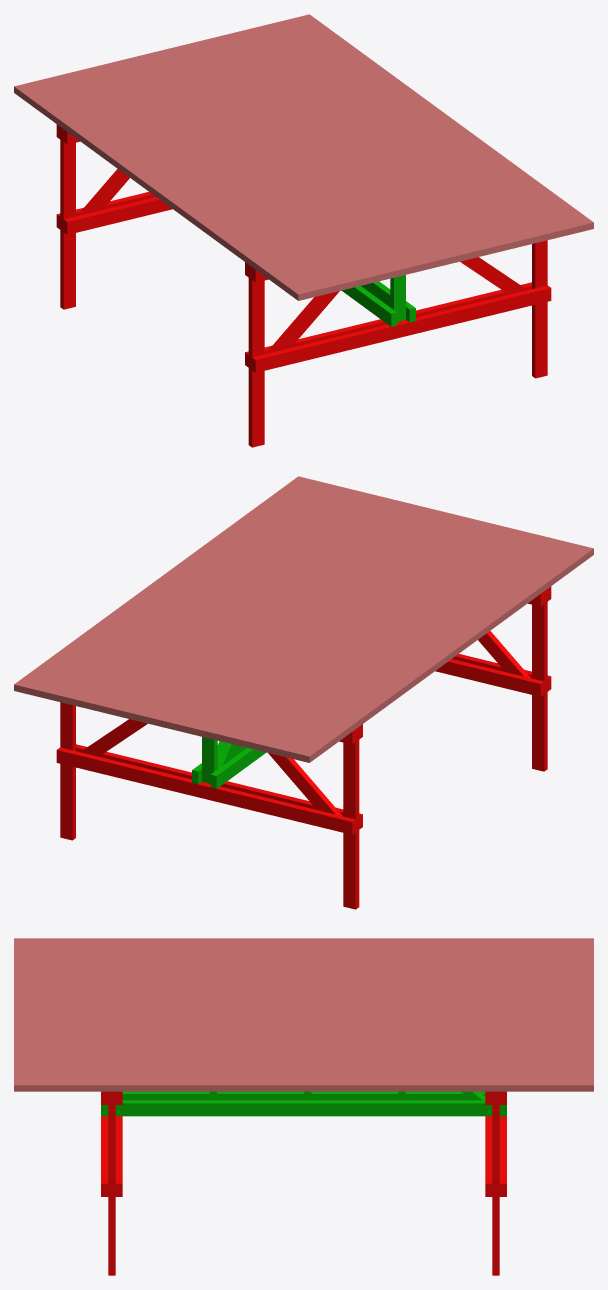
Rendered from result.glb.
3 views of the same model, one above another, from view 1: azimuth 30°, elevation 25°; view 2: azimuth 150°, elevation 25°; view 3: azimuth 270°, elevation 25° (orthographic).
Visible parts, largest first — view 1: 05e43cef-ac9a-41a2-92b4-1fbf3ca5b198__Box, ca280ebe-6c66-4aec-b6aa-8b83cfbf7fe5__sideH, 828b57bb-94ff-42ec-9105-54b1337d2b9c__undefined, 6e89d0aa-f65a-4cd3-8c40-7472725e1917__undefined, d6015b2d-edc9-4d0e-987c-619b59f8aab8__undefined, 24bbf45b-6f49-4ac0-9adb-29d26f2c249d__undefined, a09bfc43-d145-492b-bc83-09685d4b92c4__undefined, 43c83951-58d4-472d-ba59-04b926bcbe2e__undefined, 8a8197ad-1edd-4720-8c28-8827e1ee1bb5__undefined, 976a7002-705a-4f2a-a6a1-f81d435f2d57__undefined, 5409376d-de3b-4118-b4cd-380ee66cf804__undefined, 57f62993-5e8e-4ce5-8b92-c76a94a3c0be__undefined (+24 smaller); view 2: 05e43cef-ac9a-41a2-92b4-1fbf3ca5b198__Box, c1a4595a-7847-4457-a1ea-1175867b980b__undefined, 828b57bb-94ff-42ec-9105-54b1337d2b9c__undefined, 6e89d0aa-f65a-4cd3-8c40-7472725e1917__undefined, d6015b2d-edc9-4d0e-987c-619b59f8aab8__undefined, 24bbf45b-6f49-4ac0-9adb-29d26f2c249d__undefined, a09bfc43-d145-492b-bc83-09685d4b92c4__undefined, 43c83951-58d4-472d-ba59-04b926bcbe2e__undefined, 8a8197ad-1edd-4720-8c28-8827e1ee1bb5__undefined, 976a7002-705a-4f2a-a6a1-f81d435f2d57__undefined, 5409376d-de3b-4118-b4cd-380ee66cf804__undefined, 57f62993-5e8e-4ce5-8b92-c76a94a3c0be__undefined (+23 smaller); view 3: 5409376d-de3b-4118-b4cd-380ee66cf804__undefined, c1e16917-24a6-4359-9991-efc61e6de40d__strutH, 05e43cef-ac9a-41a2-92b4-1fbf3ca5b198__Box, 43c83951-58d4-472d-ba59-04b926bcbe2e__undefined, 6e89d0aa-f65a-4cd3-8c40-7472725e1917__undefined, 8a8197ad-1edd-4720-8c28-8827e1ee1bb5__undefined, 57f62993-5e8e-4ce5-8b92-c76a94a3c0be__undefined, d6015b2d-edc9-4d0e-987c-619b59f8aab8__undefined, f0e5685f-1987-4492-8062-75c07e35f9b8__undefined, 2e6dd074-016c-44a3-bb23-3a98540c3b05__undefined, 828b57bb-94ff-42ec-9105-54b1337d2b9c__undefined, 15442b8e-7535-40c4-9852-5f3c00fa6552__undefined (+20 smaller).
Part boxes in pixels (left/top/right/bottom): 05e43cef-ac9a-41a2-92b4-1fbf3ca5b198__Box: left=14, top=83, right=310, bottom=300; ca280ebe-6c66-4aec-b6aa-8b83cfbf7fe5__sideH: left=252, top=285, right=551, bottom=372; 828b57bb-94ff-42ec-9105-54b1337d2b9c__undefined: left=125, top=56, right=421, bottom=273; 6e89d0aa-f65a-4cd3-8c40-7472725e1917__undefined: left=39, top=77, right=335, bottom=294; d6015b2d-edc9-4d0e-987c-619b59f8aab8__undefined: left=76, top=68, right=372, bottom=285; 24bbf45b-6f49-4ac0-9adb-29d26f2c249d__undefined: left=88, top=65, right=384, bottom=282; a09bfc43-d145-492b-bc83-09685d4b92c4__undefined: left=285, top=17, right=581, bottom=234; 43c83951-58d4-472d-ba59-04b926bcbe2e__undefined: left=26, top=80, right=322, bottom=297; 8a8197ad-1edd-4720-8c28-8827e1ee1bb5__undefined: left=51, top=74, right=347, bottom=291; 976a7002-705a-4f2a-a6a1-f81d435f2d57__undefined: left=162, top=47, right=458, bottom=264; 5409376d-de3b-4118-b4cd-380ee66cf804__undefined: left=298, top=14, right=593, bottom=231; 57f62993-5e8e-4ce5-8b92-c76a94a3c0be__undefined: left=63, top=71, right=359, bottom=288; 05e43cef-ac9a-41a2-92b4-1fbf3ca5b198__Box: left=297, top=545, right=593, bottom=762; c1a4595a-7847-4457-a1ea-1175867b980b__undefined: left=56, top=747, right=355, bottom=834; 828b57bb-94ff-42ec-9105-54b1337d2b9c__undefined: left=186, top=518, right=482, bottom=735; 6e89d0aa-f65a-4cd3-8c40-7472725e1917__undefined: left=272, top=539, right=568, bottom=756; d6015b2d-edc9-4d0e-987c-619b59f8aab8__undefined: left=235, top=530, right=531, bottom=747; 24bbf45b-6f49-4ac0-9adb-29d26f2c249d__undefined: left=223, top=527, right=519, bottom=744; a09bfc43-d145-492b-bc83-09685d4b92c4__undefined: left=26, top=479, right=322, bottom=696; 43c83951-58d4-472d-ba59-04b926bcbe2e__undefined: left=285, top=542, right=581, bottom=759; 8a8197ad-1edd-4720-8c28-8827e1ee1bb5__undefined: left=260, top=536, right=556, bottom=753; 976a7002-705a-4f2a-a6a1-f81d435f2d57__undefined: left=149, top=509, right=445, bottom=726; 5409376d-de3b-4118-b4cd-380ee66cf804__undefined: left=14, top=476, right=309, bottom=693; 57f62993-5e8e-4ce5-8b92-c76a94a3c0be__undefined: left=248, top=533, right=544, bottom=750; 5409376d-de3b-4118-b4cd-380ee66cf804__undefined: left=14, top=1079, right=593, bottom=1091; c1e16917-24a6-4359-9991-efc61e6de40d__strutH: left=101, top=1100, right=506, bottom=1116; 05e43cef-ac9a-41a2-92b4-1fbf3ca5b198__Box: left=14, top=938, right=593, bottom=944; 43c83951-58d4-472d-ba59-04b926bcbe2e__undefined: left=14, top=944, right=593, bottom=950; 6e89d0aa-f65a-4cd3-8c40-7472725e1917__undefined: left=14, top=950, right=593, bottom=956; 8a8197ad-1edd-4720-8c28-8827e1ee1bb5__undefined: left=14, top=956, right=593, bottom=962; 57f62993-5e8e-4ce5-8b92-c76a94a3c0be__undefined: left=14, top=962, right=593, bottom=968; d6015b2d-edc9-4d0e-987c-619b59f8aab8__undefined: left=14, top=968, right=593, bottom=974; f0e5685f-1987-4492-8062-75c07e35f9b8__undefined: left=14, top=981, right=593, bottom=987; 2e6dd074-016c-44a3-bb23-3a98540c3b05__undefined: left=14, top=987, right=593, bottom=993; 828b57bb-94ff-42ec-9105-54b1337d2b9c__undefined: left=14, top=993, right=593, bottom=999; 15442b8e-7535-40c4-9852-5f3c00fa6552__undefined: left=14, top=999, right=593, bottom=1005.
Bounding box in the file's own units: 1200 × 725 × 2000.
